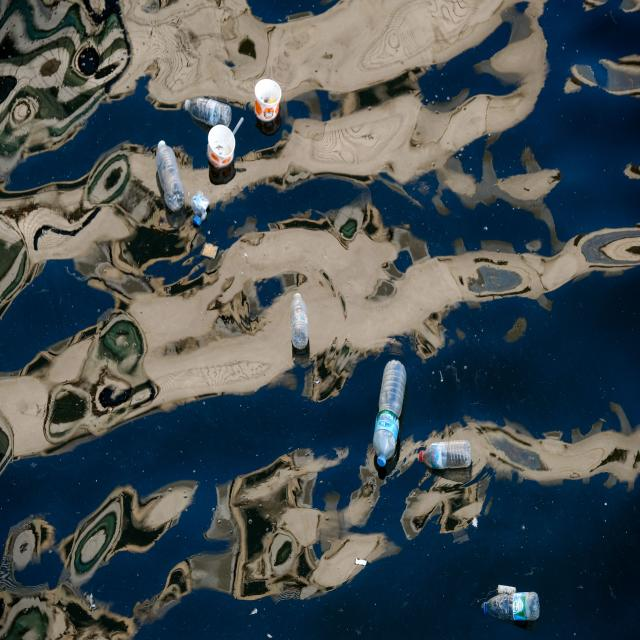Bottle: (374, 361, 406, 467), (156, 141, 185, 211), (483, 592, 539, 621), (419, 441, 471, 469), (184, 98, 231, 126), (291, 293, 308, 349), (190, 191, 209, 226)
